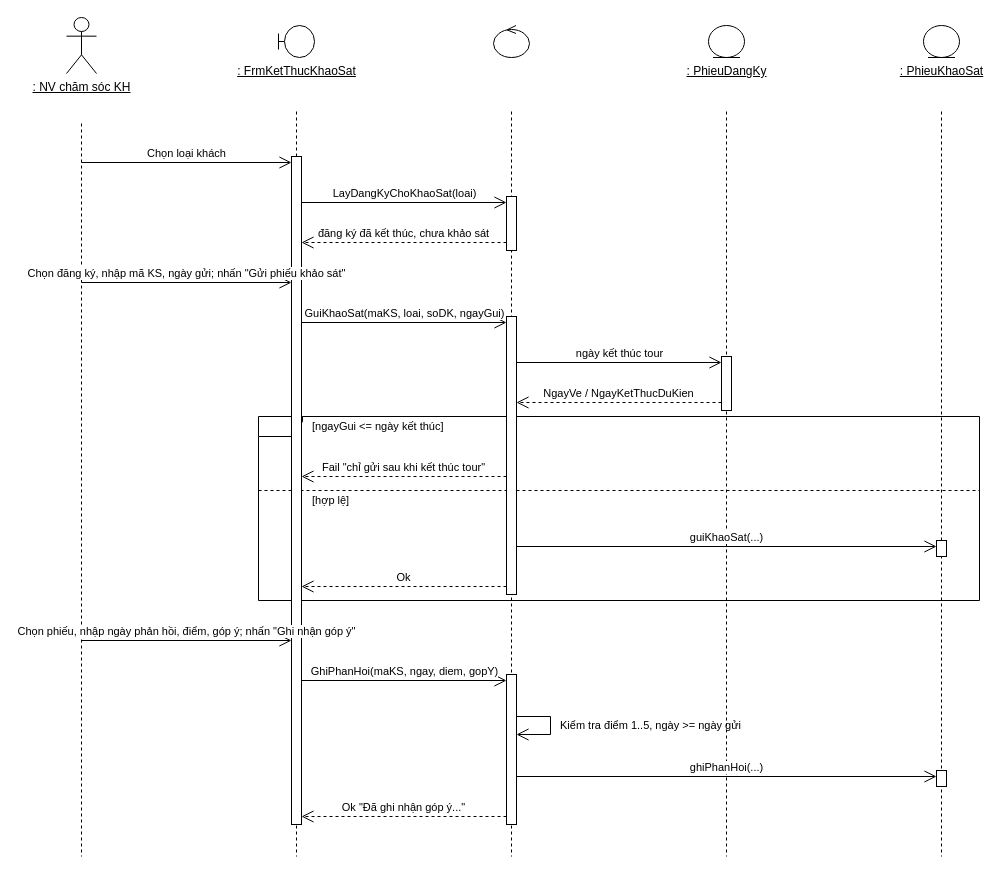
The diagram is 1000 pixels wide and 875 high, and some of its shapes have lost their labels. The box of each missing label's shape, as (x1, y1, x2, y2) in pixels:
: KetThucService: (492, 24, 530, 58)
alt: (258, 416, 980, 600)
